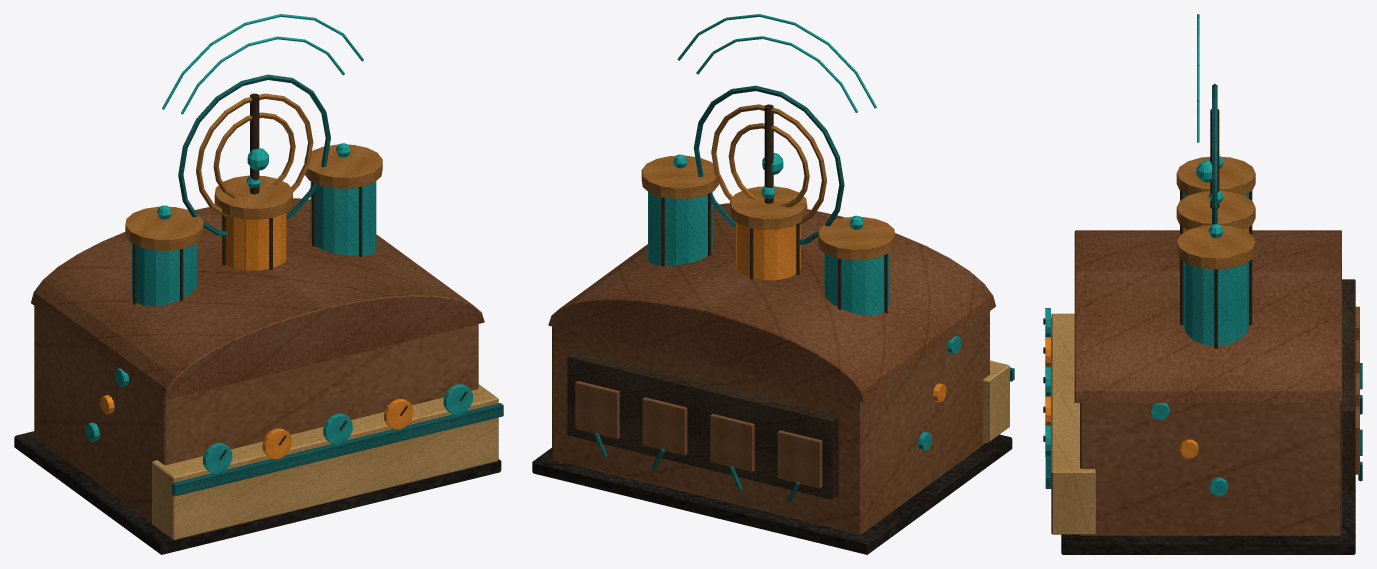
Rendered from signal-refinery.glb.
3 views of the same model, side by side, from view 1: azimuth 30°, elevation 25°; view 2: azimuth 150°, elevation 25°; view 3: azimuth 270°, elevation 25° (orthographic).
Parts seen in each view (by area): view 1: SignalRefineryE7; view 2: SignalRefineryE7; view 3: SignalRefineryE7.
Boxes of the visible parts, x1,y1,x2,y2 form: SignalRefineryE7: [14, 14, 503, 554]; SignalRefineryE7: [532, 14, 1014, 554]; SignalRefineryE7: [1043, 14, 1362, 554].
Bounding box in the file's own units: 6.18 × 7.72 × 5.02.
Materials: 1 (1 with a texture image).
